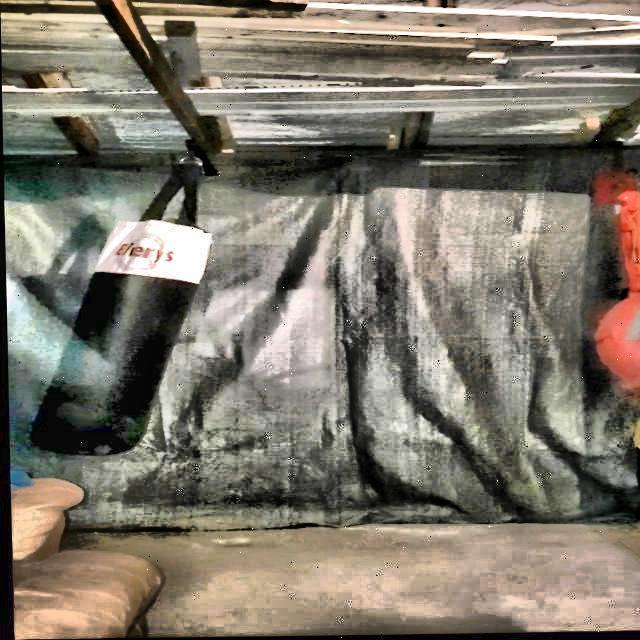boxing-bag: (17, 139, 231, 461)
